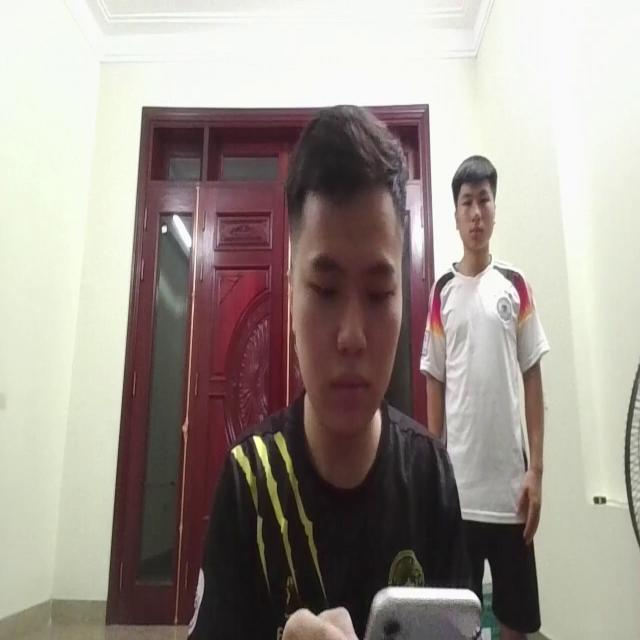extra_person: (420, 135, 548, 640)
phone: (353, 570, 484, 640)
student: (187, 101, 462, 640)
